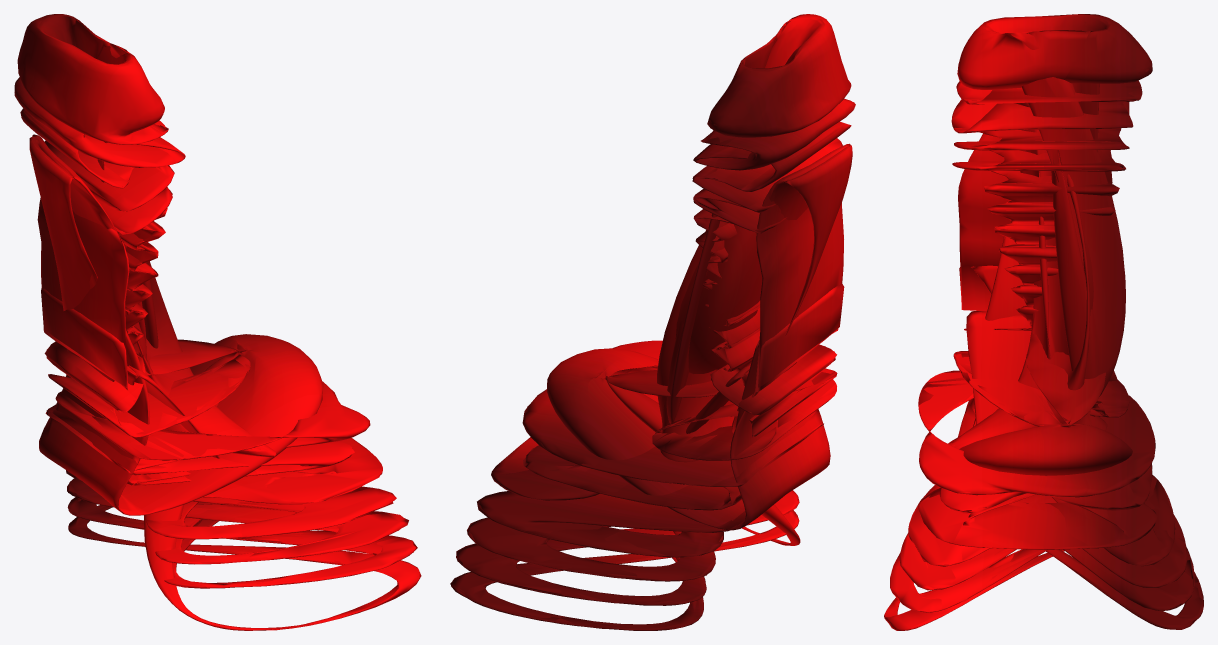
The model's file is higgs-boson-red-r-v28.glb.
The picture shows the model from 3 angles, left to right: view 1: azimuth 30°, elevation 25°; view 2: azimuth 150°, elevation 25°; view 3: azimuth 270°, elevation 25°; orthographic projection. The views are drawn at different scales.
Visible parts, largest first — view 1: higgs-boson-red; view 2: higgs-boson-red; view 3: higgs-boson-red.
Boxes of the visible parts, x1,y1,x2,y2 form: higgs-boson-red: (14, 14, 421, 630); higgs-boson-red: (450, 14, 855, 630); higgs-boson-red: (884, 14, 1203, 630).
Size of the model in its own units: 0.7119 by 1.25 by 0.7073.
1 material, 1 textured.
